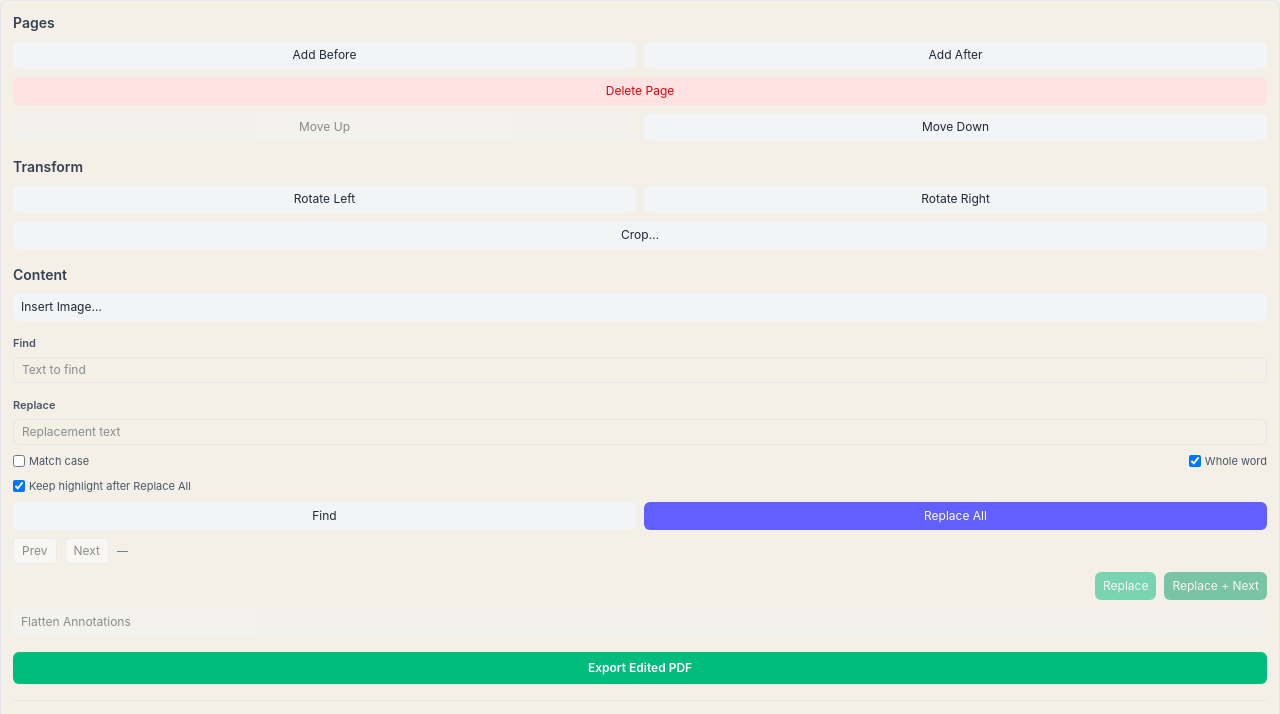
DocumentActionsPanel: Vigorous Find & Replace › Finds text split across multiple PDF items
Note: Search for "Hello" (Split as "He" + "llo")
In the field labelled "Find": {"x": 640, "y": 370} [13,357,1267,383], type "Hello"
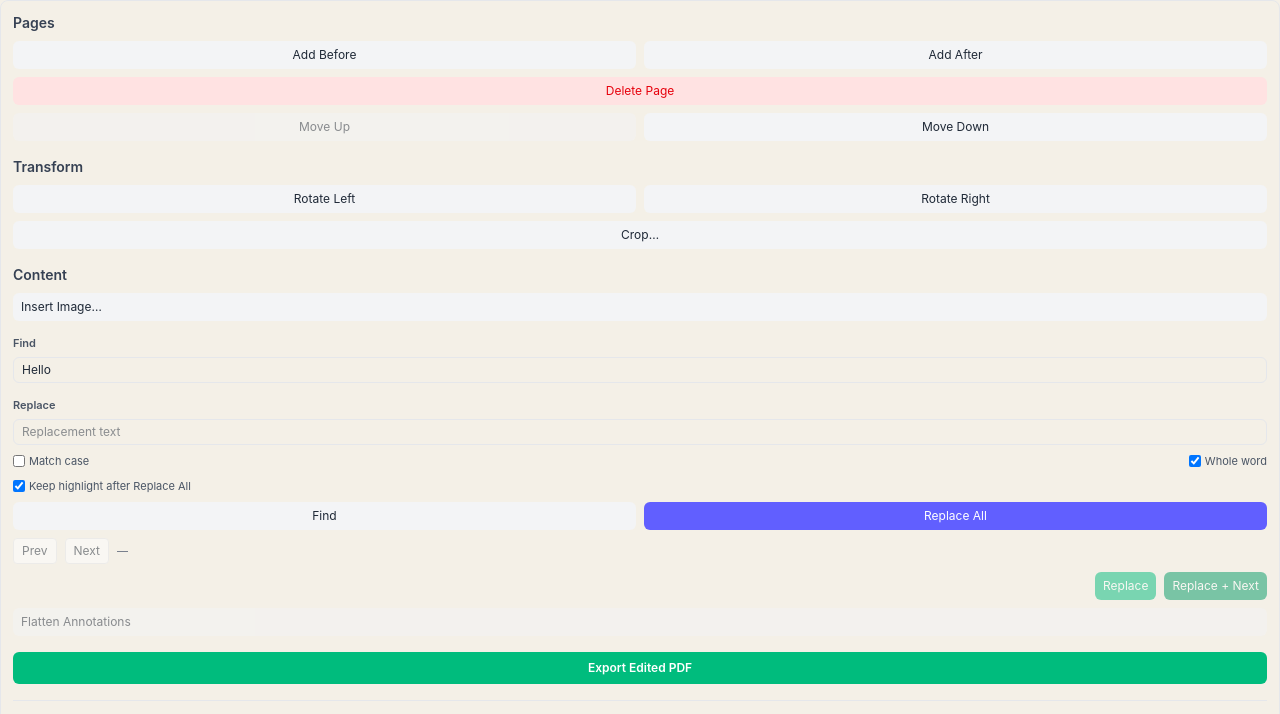
Click the button with aria-label "execute search": {"x": 324, "y": 516} [13,502,636,530]
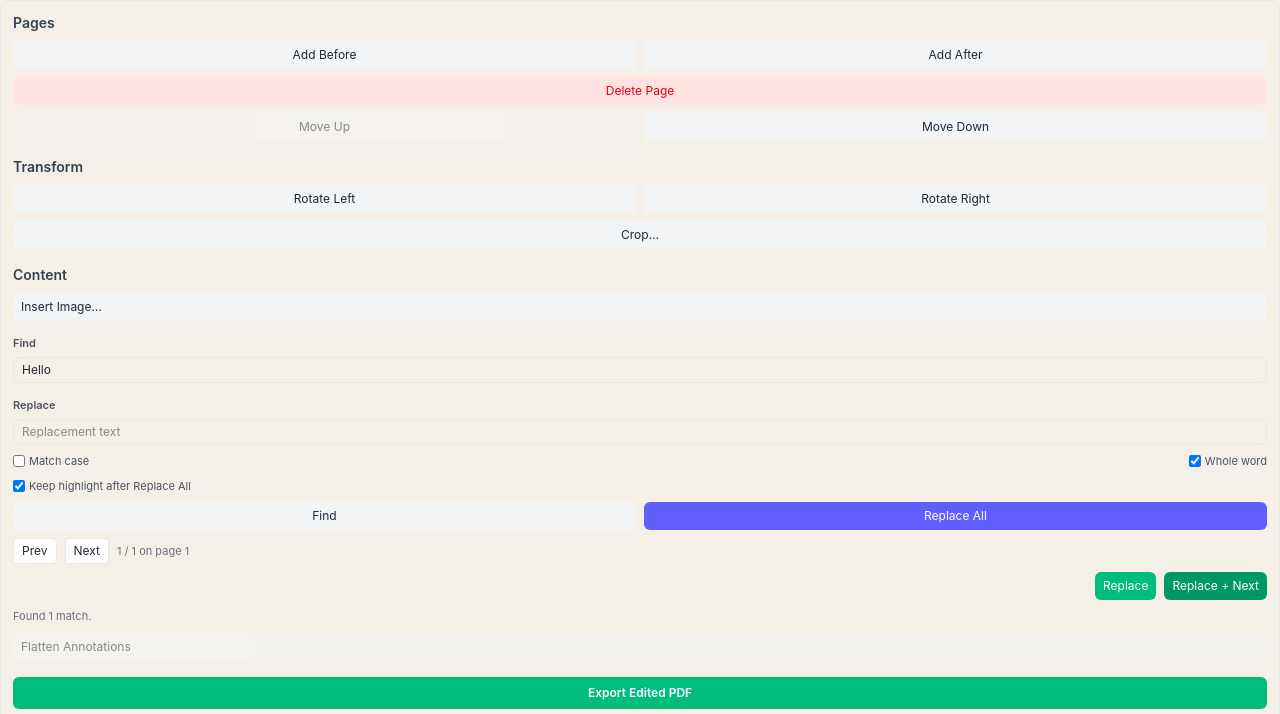
Now the text "1 / 1 on page 1" is shown, box [117,544,189,558]
